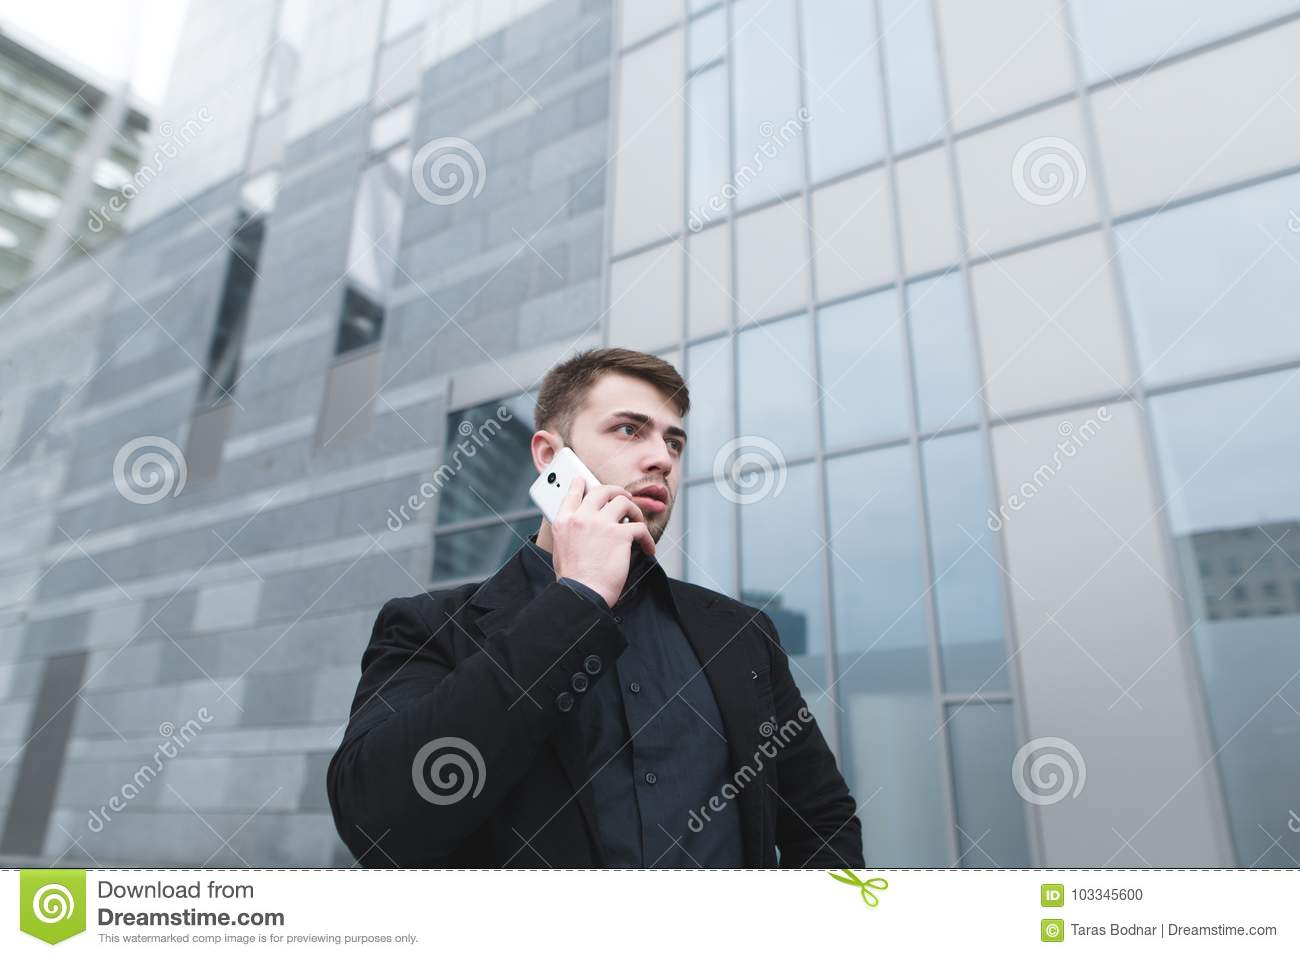phone: (529, 446, 636, 551)
talk: (529, 406, 689, 608)
